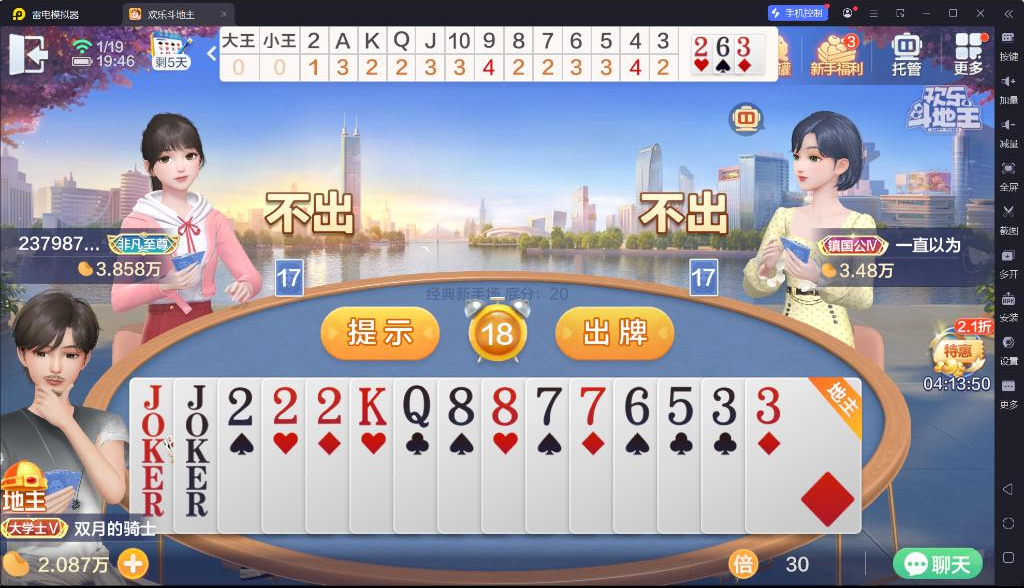JOKER: (139, 382, 169, 469)
K: (356, 383, 390, 429)
Q: (401, 382, 434, 429)
eight: (445, 384, 476, 427), (490, 385, 520, 427)
five: (665, 384, 695, 428)
joker: (182, 383, 213, 467)
seven: (533, 384, 565, 427), (578, 384, 608, 427)
six: (622, 384, 651, 427), (714, 35, 730, 57)
three: (709, 384, 738, 427), (753, 385, 783, 426), (736, 36, 751, 57)
two: (225, 385, 257, 427), (270, 383, 299, 427), (315, 384, 343, 427), (693, 35, 708, 57)
